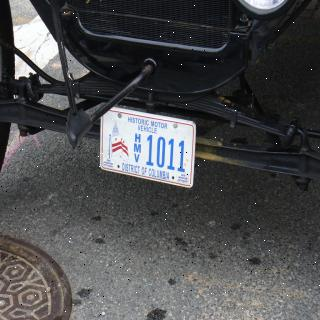license: (99, 106, 202, 187)
